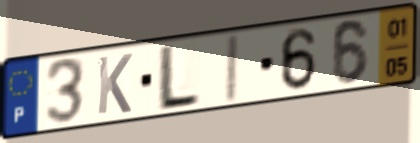3: (44, 55, 88, 128)
6: (329, 17, 374, 88), (278, 26, 321, 94)
I: (221, 31, 242, 107)
K: (95, 51, 135, 117)
L: (153, 42, 203, 114)
